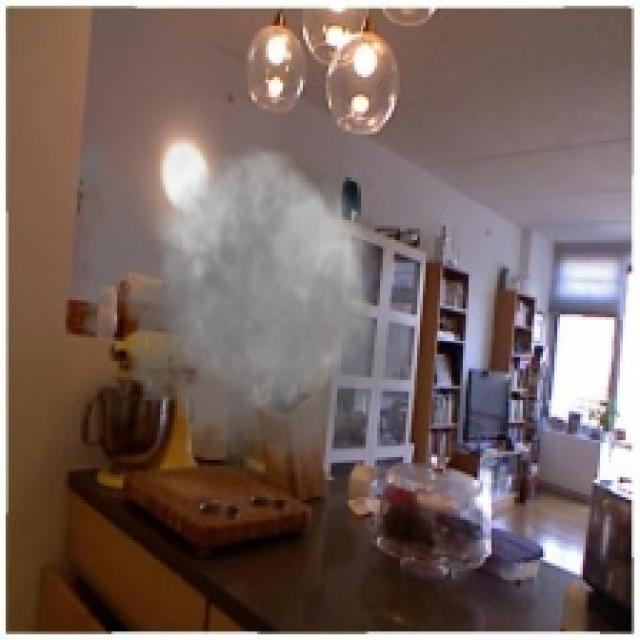smoke: (57, 74, 429, 489)
